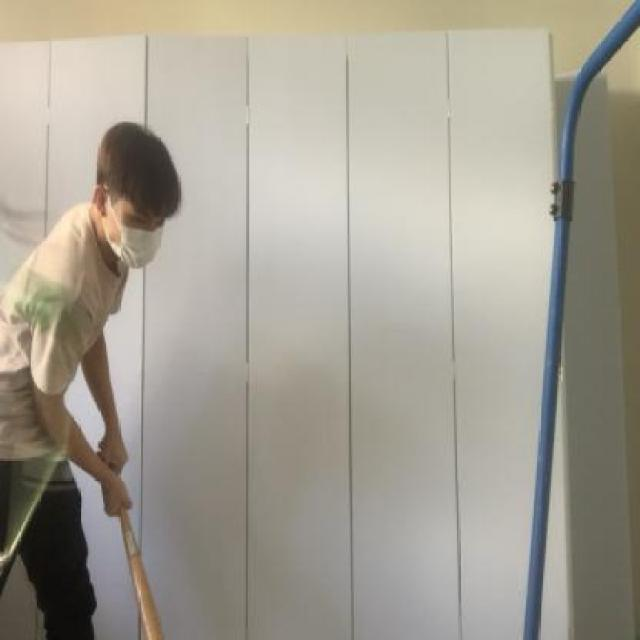baseball: (2, 259, 96, 332)
